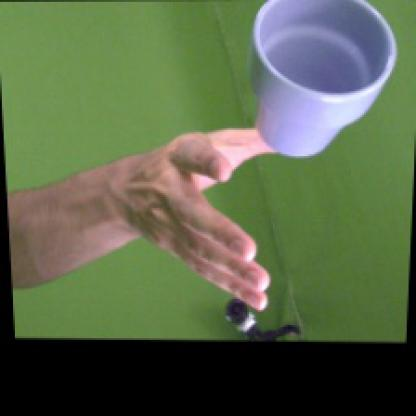Hand: (114, 127, 298, 311)
